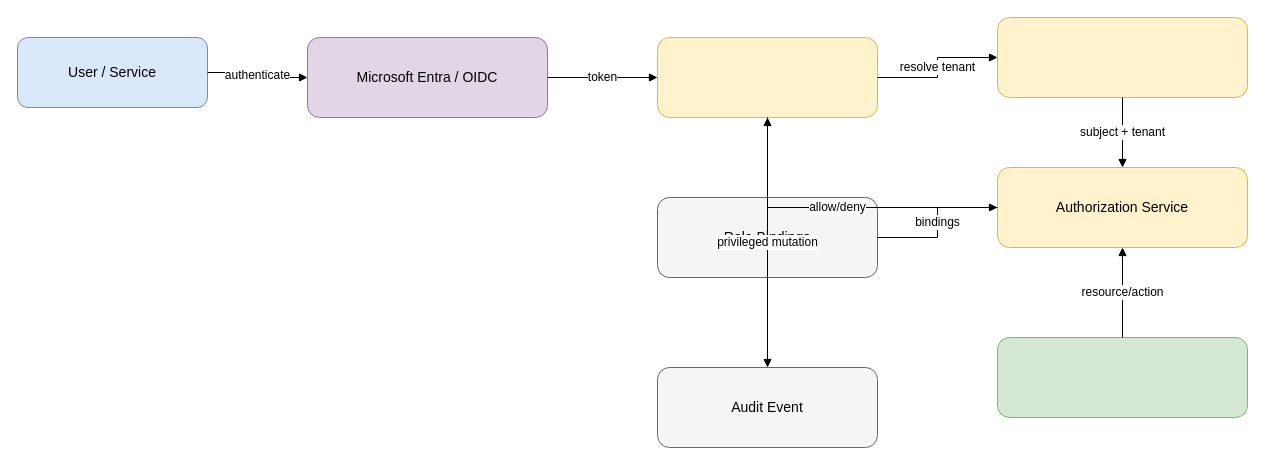
Image size: 1265x465. Some labels were removed from this diagram. Here are the shapes that lost their labels. From the top down, the box of each, then its label:
(656, 36, 878, 118): Platform API
(996, 16, 1248, 98): Tenant Context Resolver
(996, 336, 1248, 418): Requested Resource
